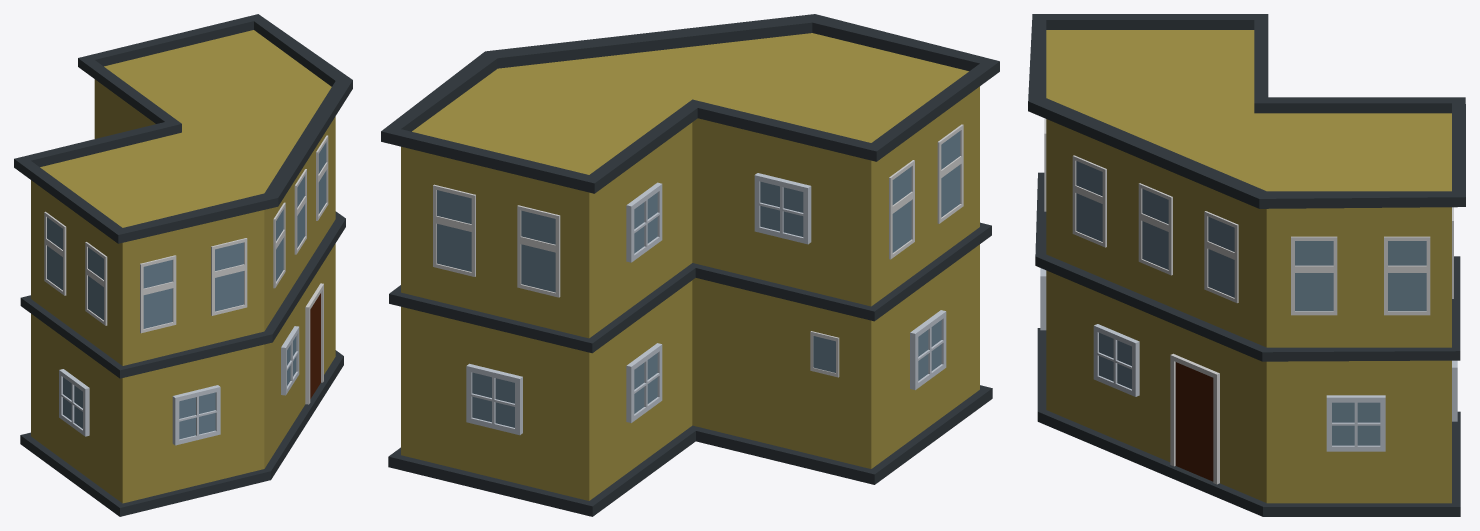
The model's file is dia yellow.fbx.
3 views of the same model, side by side, from view 1: azimuth 30°, elevation 25°; view 2: azimuth 150°, elevation 25°; view 3: azimuth 270°, elevation 25° (orthographic). The views are drawn at different scales.
Parts seen in each view (by area): view 1: dia yellow; view 2: dia yellow; view 3: dia yellow.
Boxes of the visible parts, x1,y1,x2,y2 form: dia yellow: (14, 14, 352, 516); dia yellow: (381, 14, 999, 516); dia yellow: (1028, 14, 1465, 516).
Size of the model in its own units: 7.82 by 6.35 by 7.82.
